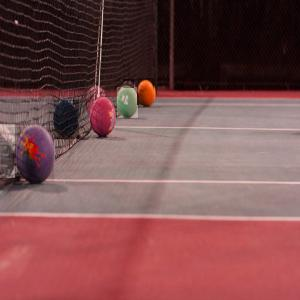TennisBall: (18, 124, 56, 184), (56, 101, 82, 141), (91, 99, 117, 139), (1, 125, 17, 180), (118, 88, 140, 120), (139, 79, 157, 107), (88, 86, 107, 108), (125, 80, 137, 90)
